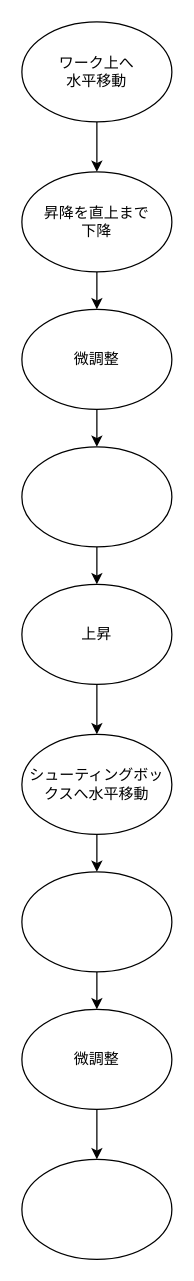
This 194x1281 diagram has some shape labels left out. The box of each missing label's shape, as (x1, y1, x2, y2) in pixels:
下降して離す: (21, 1158, 172, 1259)
把持: (21, 446, 172, 547)
昇降を 直上まで下降: (21, 871, 172, 972)
